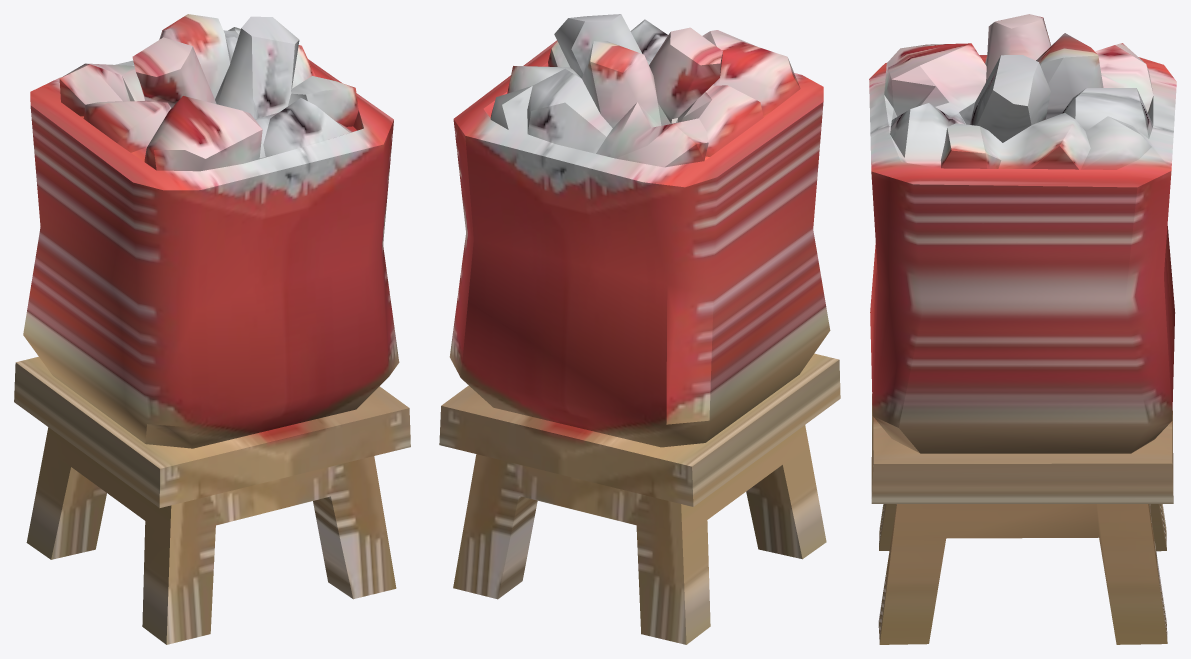
The picture shows the model from 3 angles, left to right: view 1: azimuth 30°, elevation 25°; view 2: azimuth 150°, elevation 25°; view 3: azimuth 270°, elevation 25°; orthographic projection. The views are drawn at different scales.
Visible parts, largest first — view 1: Decor_chalk_bag; view 2: Decor_chalk_bag; view 3: Decor_chalk_bag.
Part boxes in pixels (x1,y1,x2,y2): Decor_chalk_bag: (14, 14, 410, 644); Decor_chalk_bag: (439, 14, 840, 644); Decor_chalk_bag: (869, 14, 1176, 644).
Bounding box in the file's own units: 0.3043 × 0.5974 × 0.3034.
Materials: 1 (1 with a texture image).
